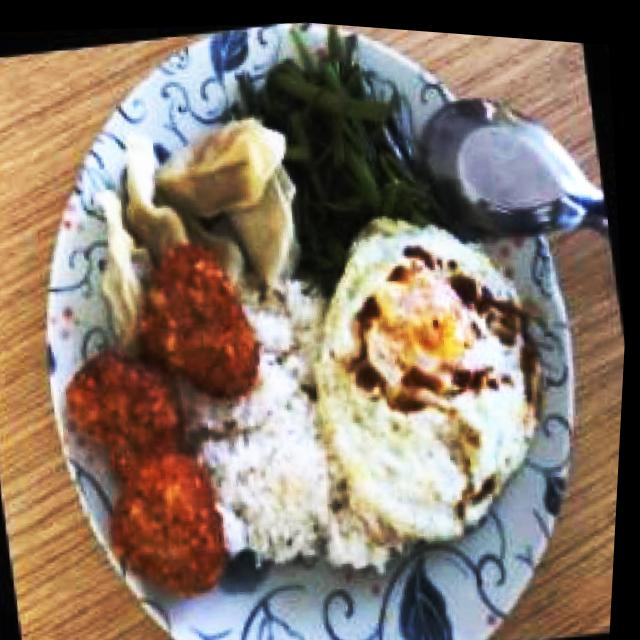Hashbrown: (99, 444, 238, 604), (139, 237, 270, 404), (54, 341, 196, 489)
fried_dumplings: (148, 110, 293, 226), (85, 184, 160, 368), (220, 156, 302, 291), (115, 127, 198, 257)
fried_eggs: (296, 196, 563, 562)
rice: (157, 270, 374, 586)
water_spinach: (246, 19, 468, 303)
